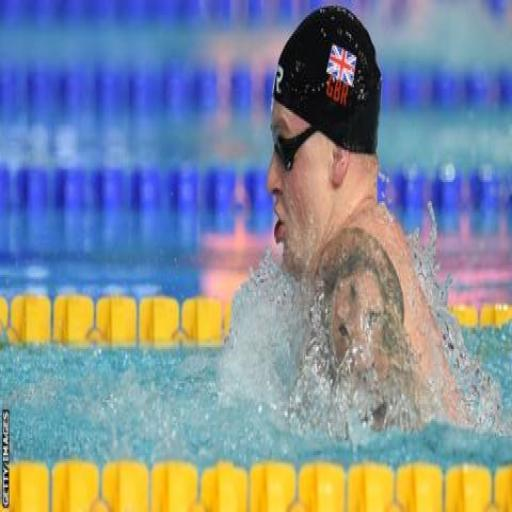swimming: (216, 4, 502, 440), (286, 224, 446, 442)
